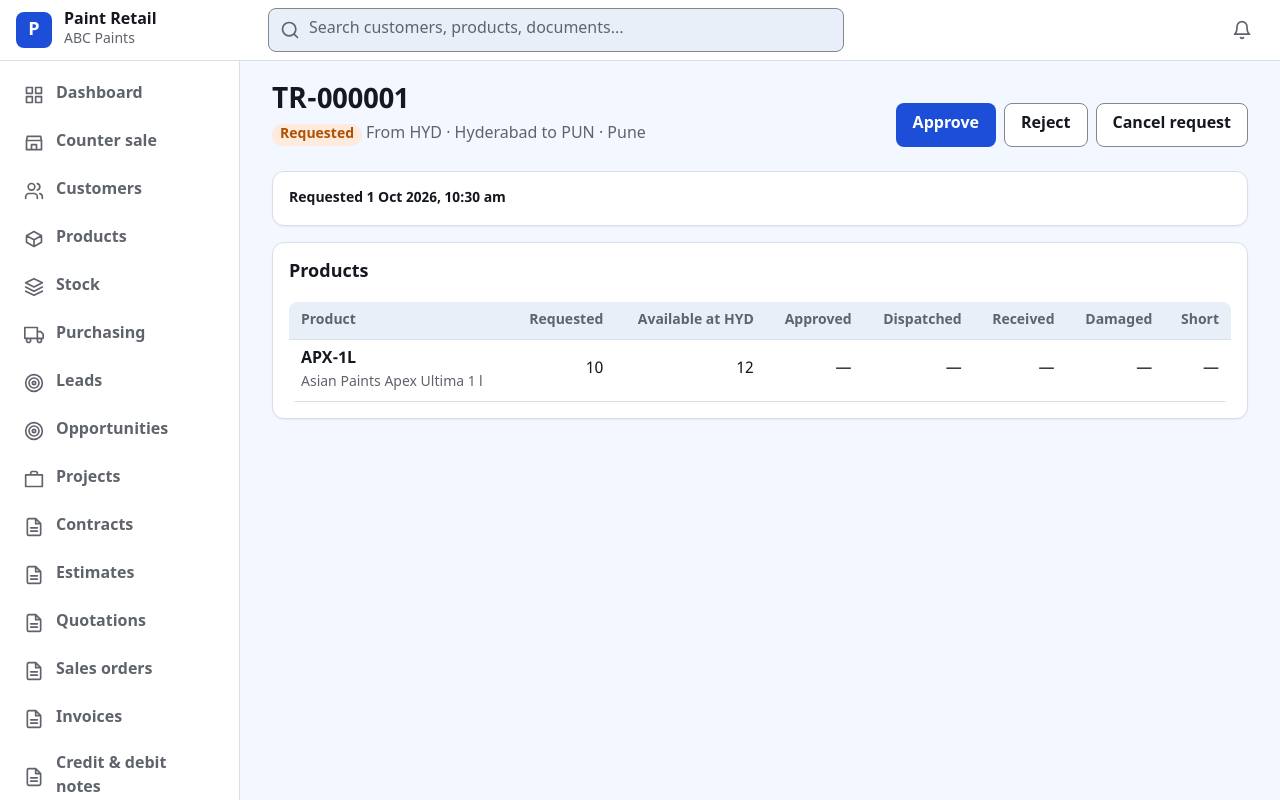
Test: TransferDetailPage › asks to reject instead of approving nothing
Click the button with aria-label "Approve TR-000001": (946, 125) [896, 103, 996, 147]
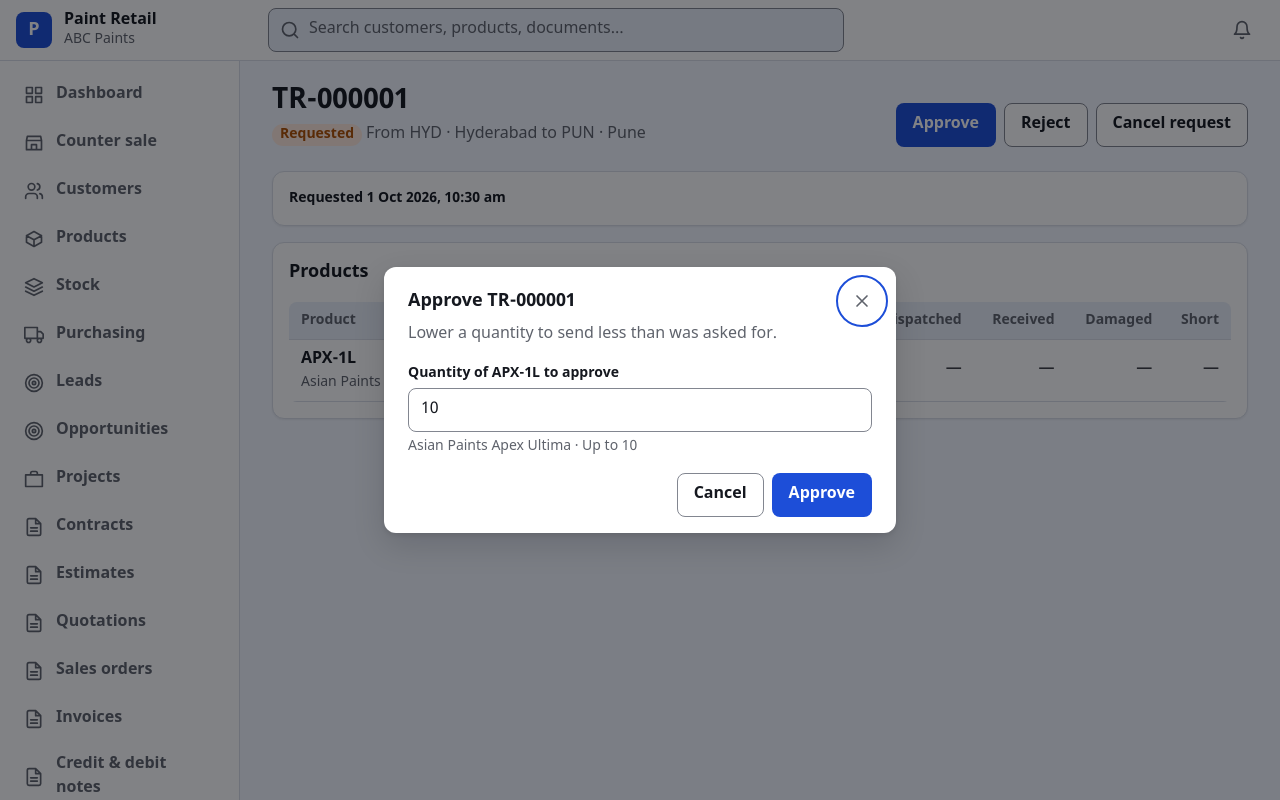
Replace the text in the field labelled "Quantity of APX-1L to approve" with "0": (640, 410) [408, 388, 872, 432]
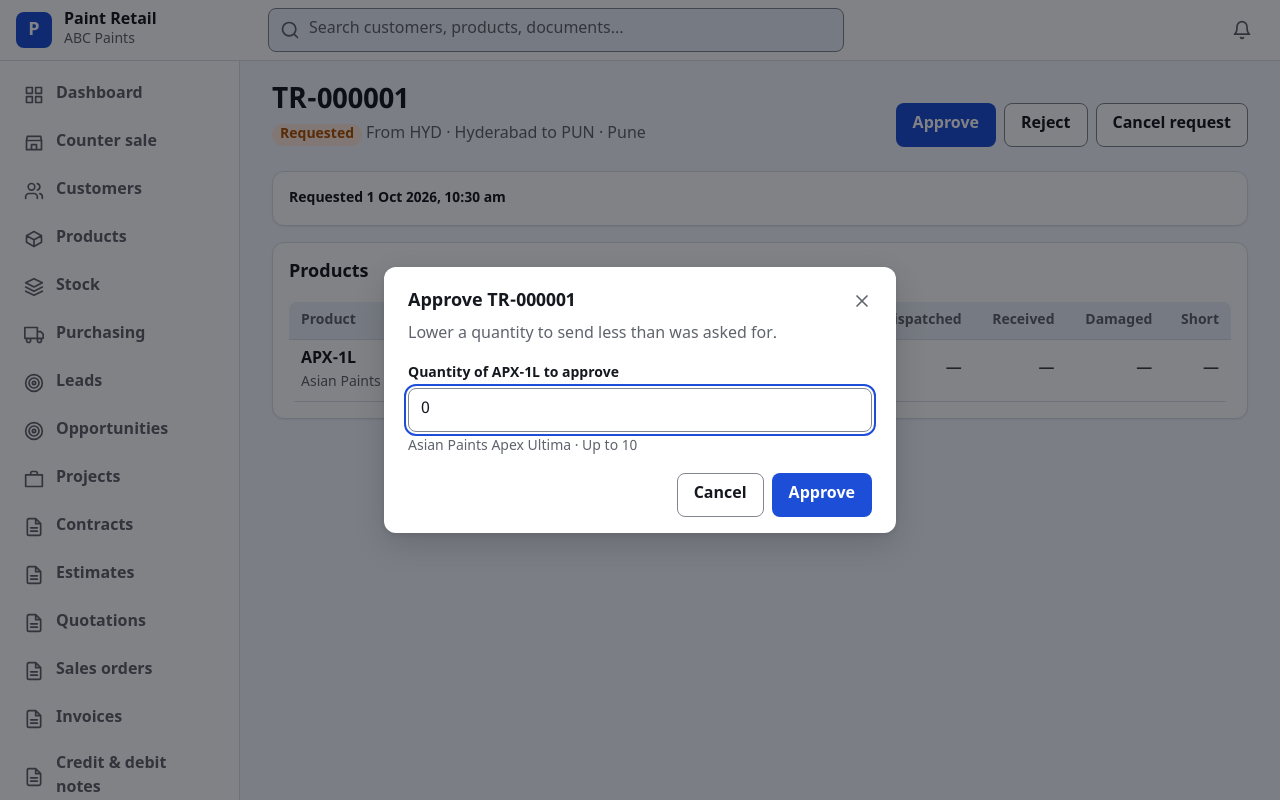
Click the button "Approve": (822, 495) [772, 473, 872, 517]
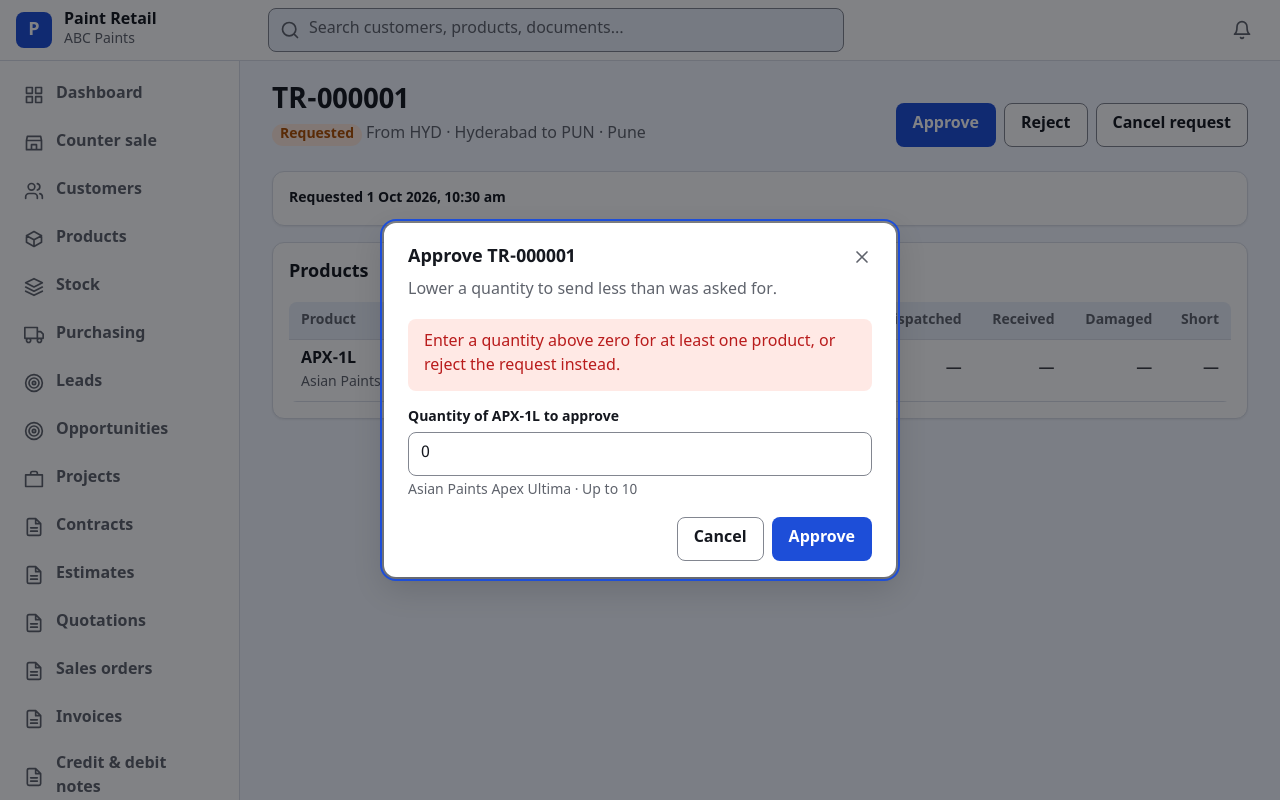
Expected: the text "or reject the request instead" is shown, [424, 332, 835, 377]
